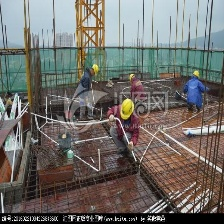helmet: (118, 97, 135, 121), (90, 63, 99, 77), (192, 69, 201, 80)
person: (110, 98, 144, 165), (181, 66, 210, 114), (79, 60, 97, 123), (129, 73, 149, 102)
